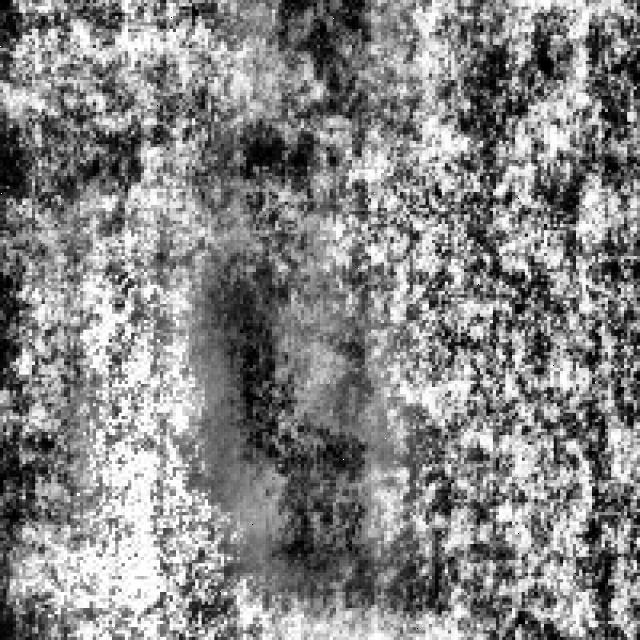Scratches: (202, 218, 368, 566)
